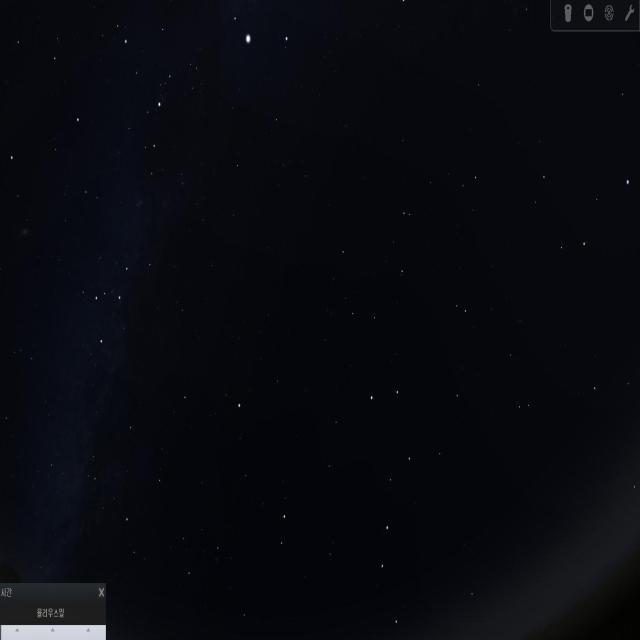ursa_major: (360, 370, 436, 640)
